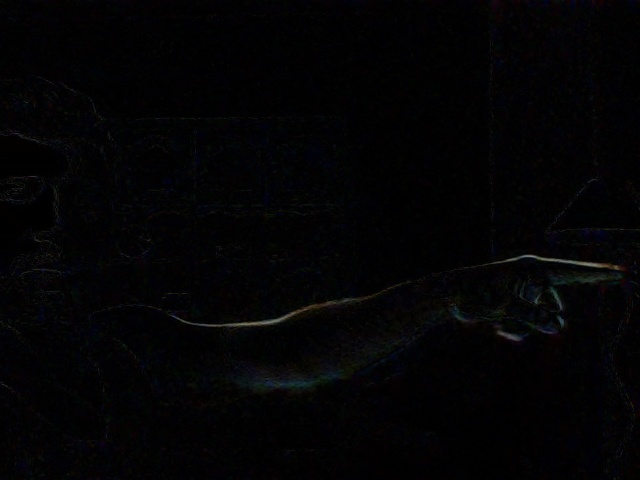hand_po: (433, 244, 628, 345)
